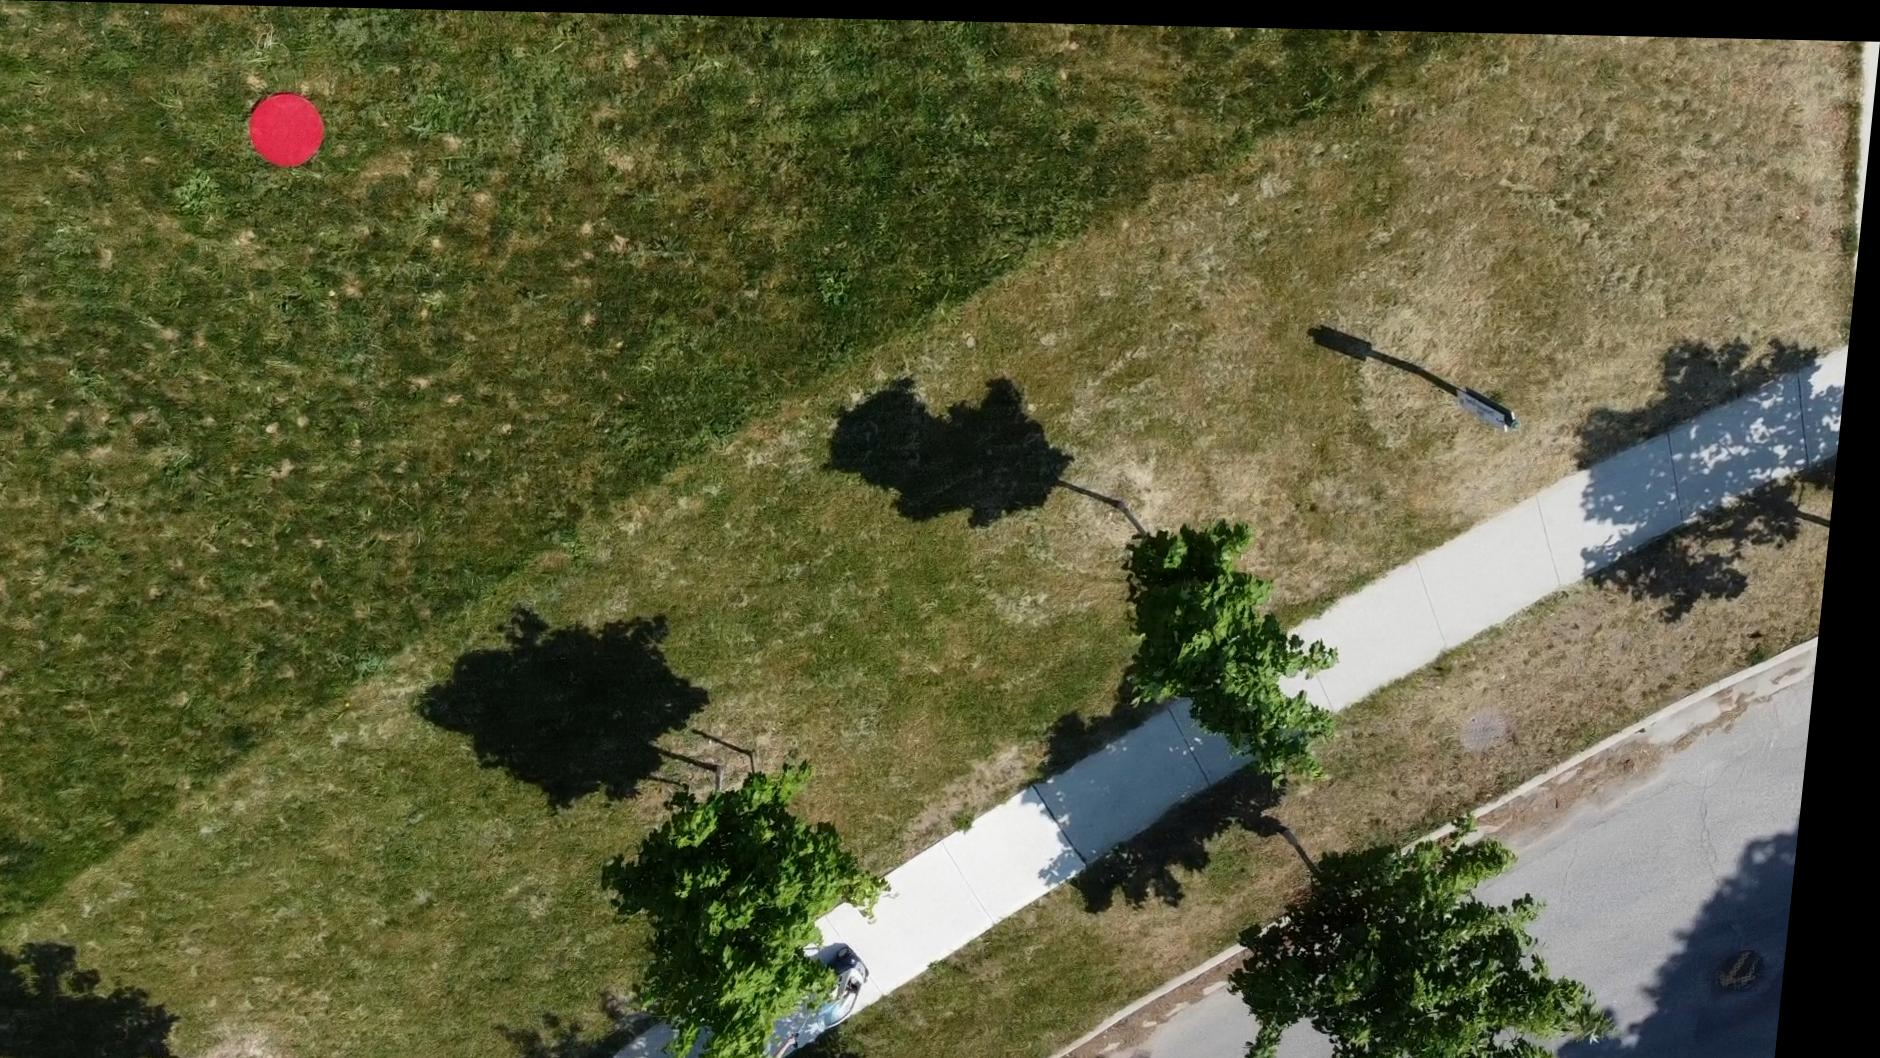Red: (246, 89, 333, 168)
